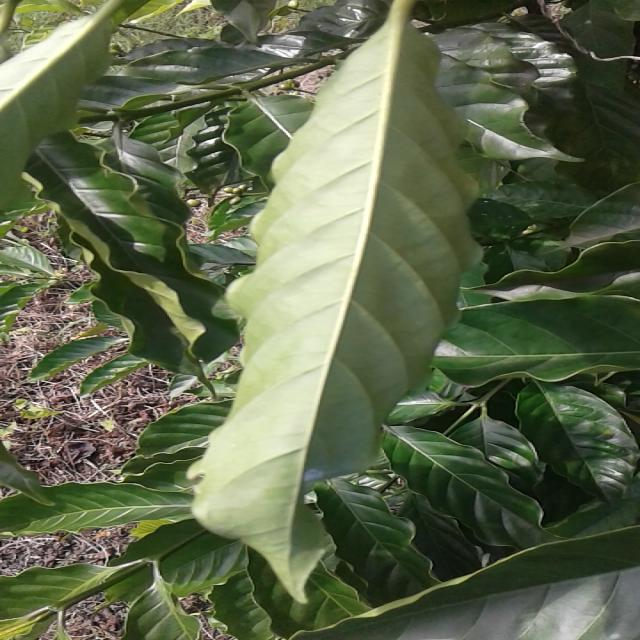Sanas: (186, 0, 553, 606)
